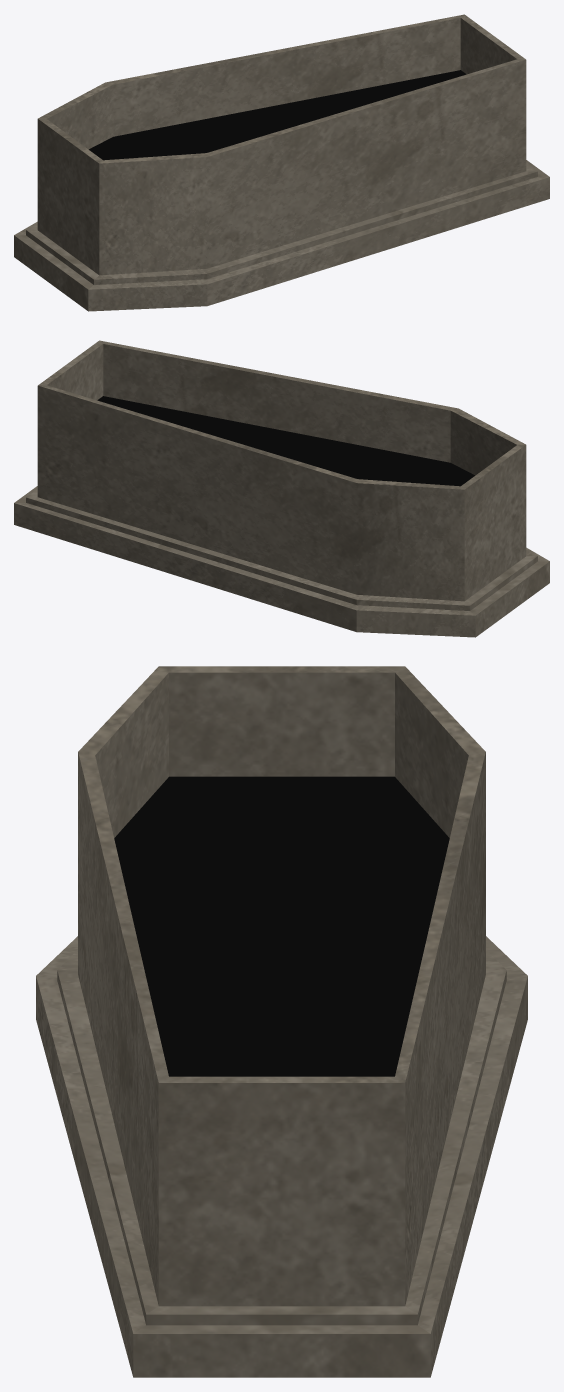
The model's file is catcoffin_FBX.fbx.
3 views of the same model, one above another, from view 1: azimuth 30°, elevation 25°; view 2: azimuth 150°, elevation 25°; view 3: azimuth 270°, elevation 25° (orthographic). The views are drawn at different scales.
Parts seen in each view (by area): view 1: polySurface2; view 2: polySurface2; view 3: polySurface2.
Part boxes in pixels (box(x1,y1,x2,y2)): polySurface2: box(14, 14, 549, 311); polySurface2: box(14, 340, 549, 637); polySurface2: box(36, 666, 527, 1377).
Size of the model in its own units: 21.63 by 6.22 by 9.98.
